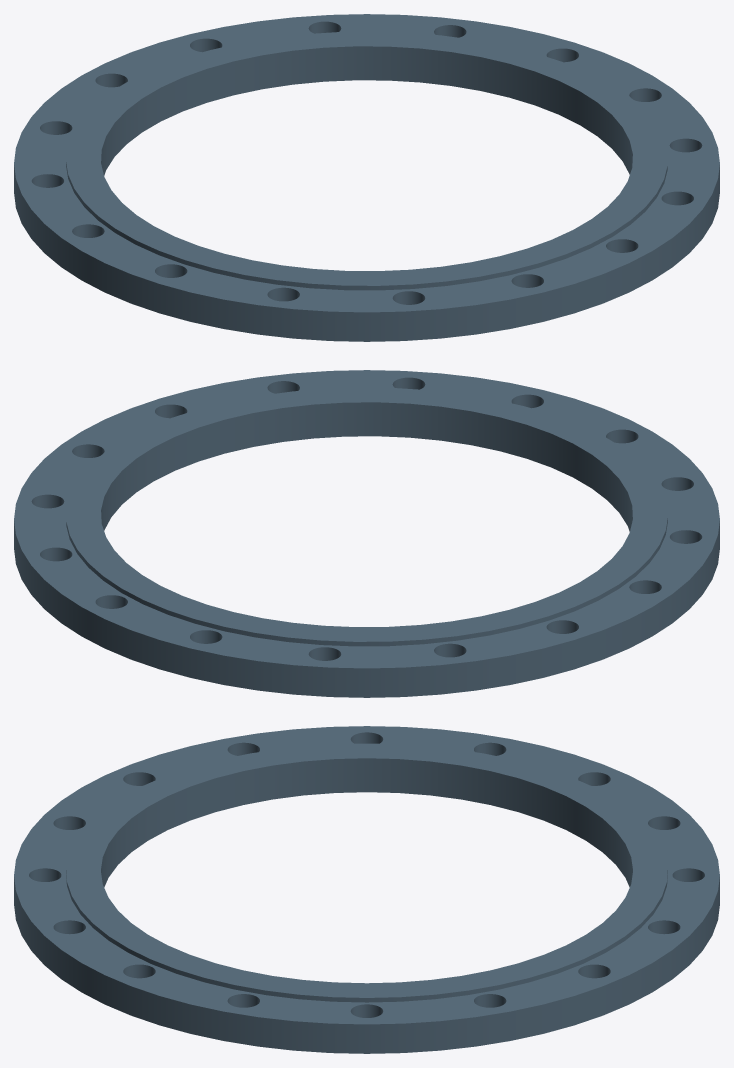
Rendered from flanec-ploskij-DN400-PN10.glb.
The picture shows the model from 3 angles, top to bottom: view 1: azimuth 30°, elevation 25°; view 2: azimuth 150°, elevation 25°; view 3: azimuth 270°, elevation 25°; orthographic projection.
Parts seen in each view (by area): view 1: Open CASCADE STEP translator 7.9 46; view 2: Open CASCADE STEP translator 7.9 46; view 3: Open CASCADE STEP translator 7.9 46.
Boxes of the visible parts, x1,y1,x2,y2 form: Open CASCADE STEP translator 7.9 46: (14, 14, 719, 341); Open CASCADE STEP translator 7.9 46: (14, 370, 719, 697); Open CASCADE STEP translator 7.9 46: (14, 726, 719, 1053).
Size of the model in its own units: 565 by 30 by 565.
